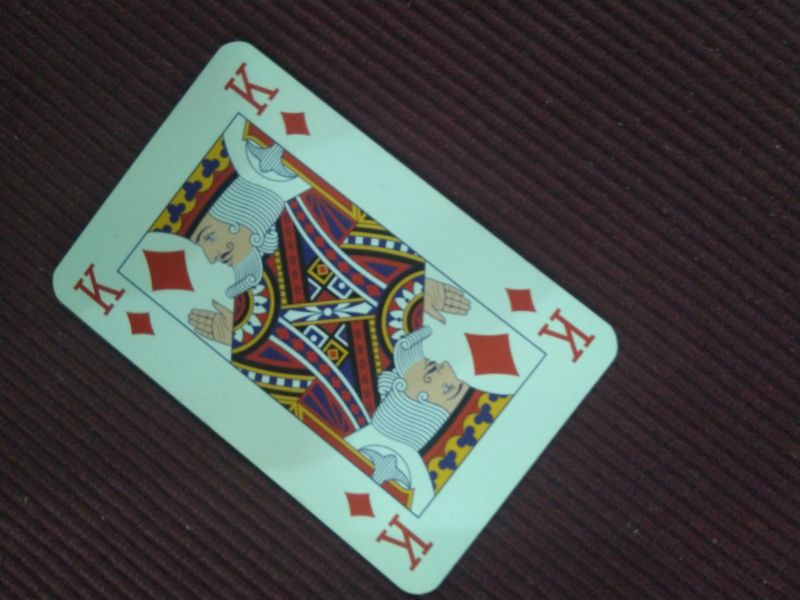Kd: (342, 488, 436, 574), (502, 284, 597, 366), (70, 256, 159, 339), (223, 59, 314, 139)
